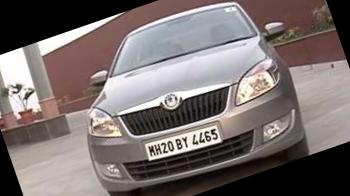plate: (132, 100, 242, 183)
